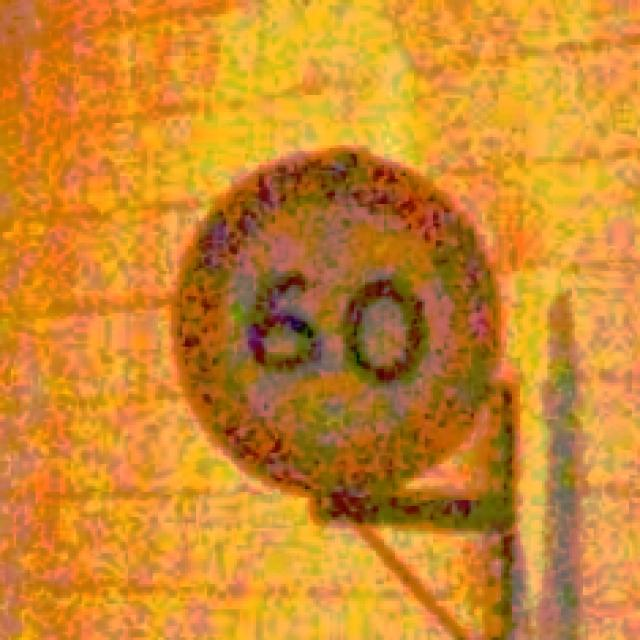max60: (169, 145, 504, 517)
